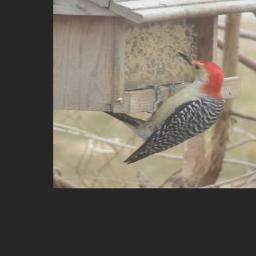Woodpecker: (111, 51, 230, 160)
